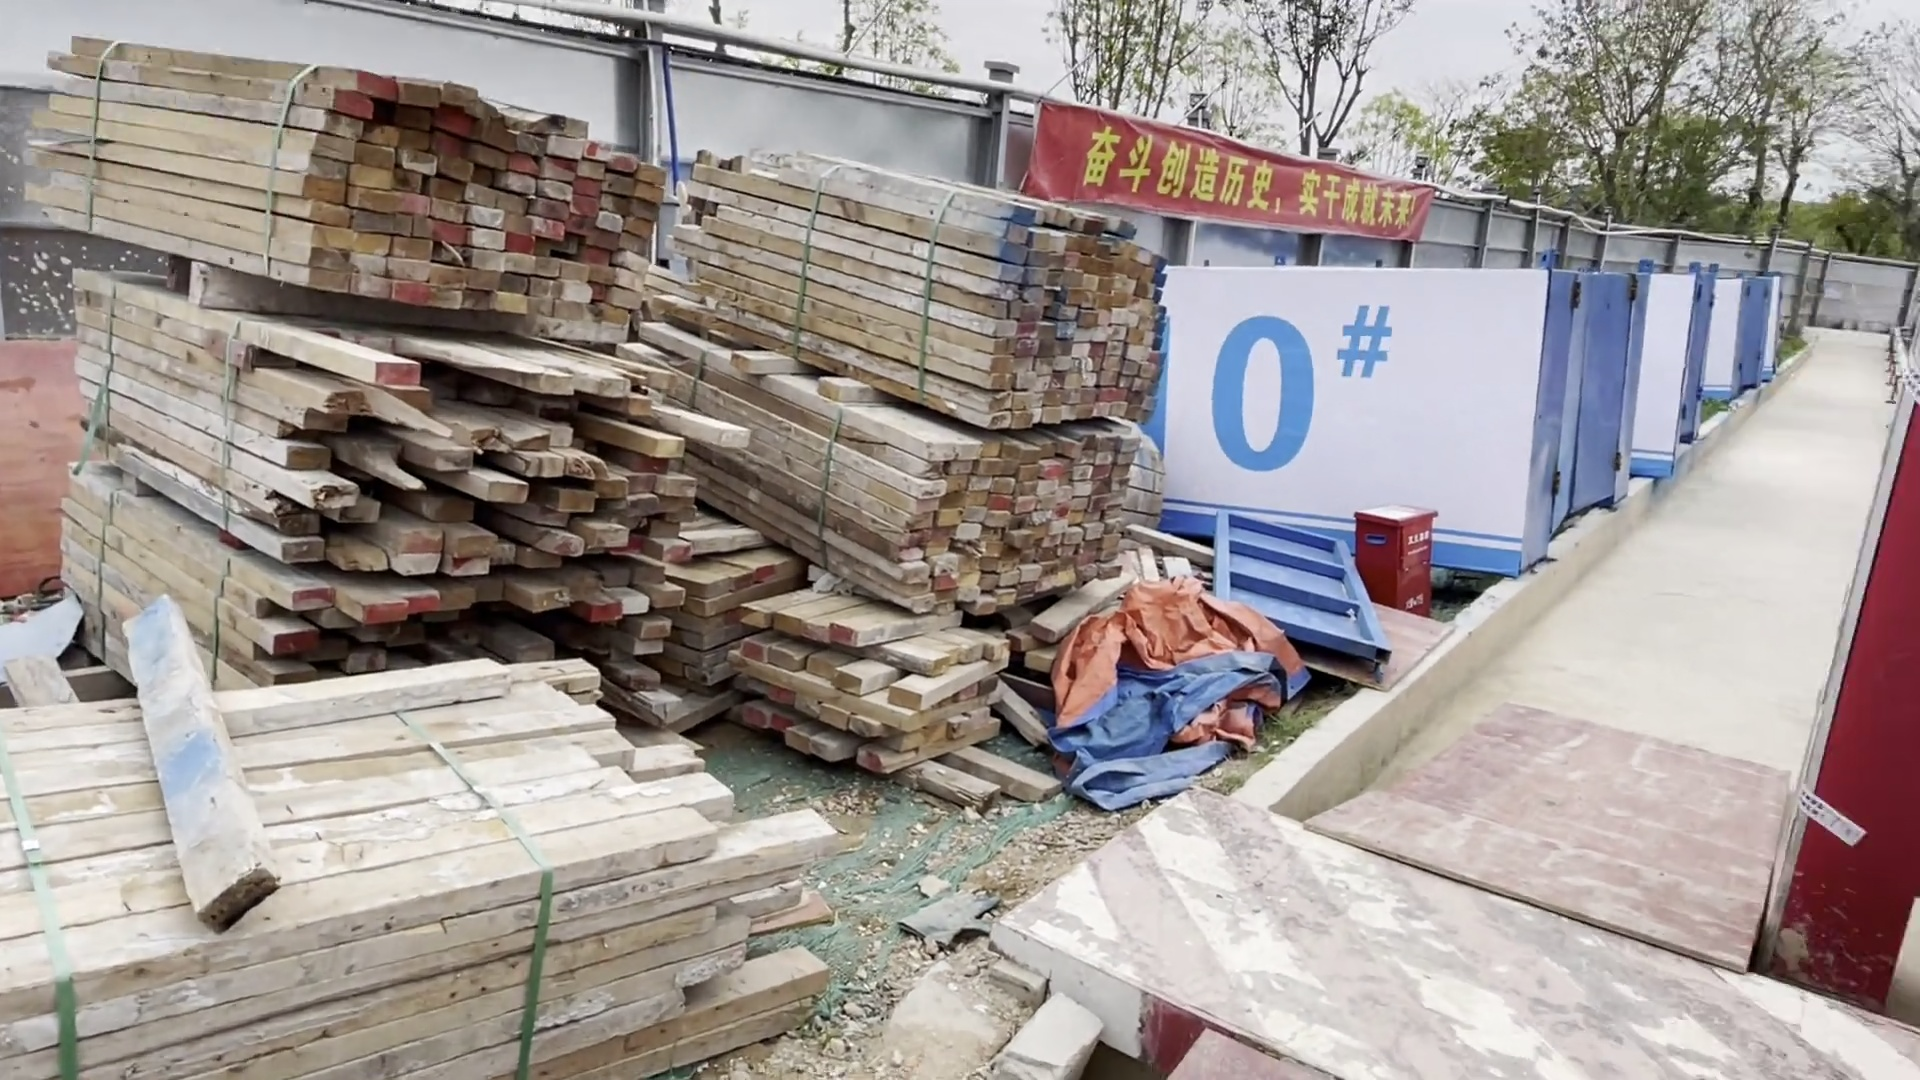board: (1124, 716, 1807, 1080)
slogan: (1030, 94, 1437, 252)
wood: (38, 18, 678, 673), (7, 659, 833, 1067), (699, 116, 1156, 764)
